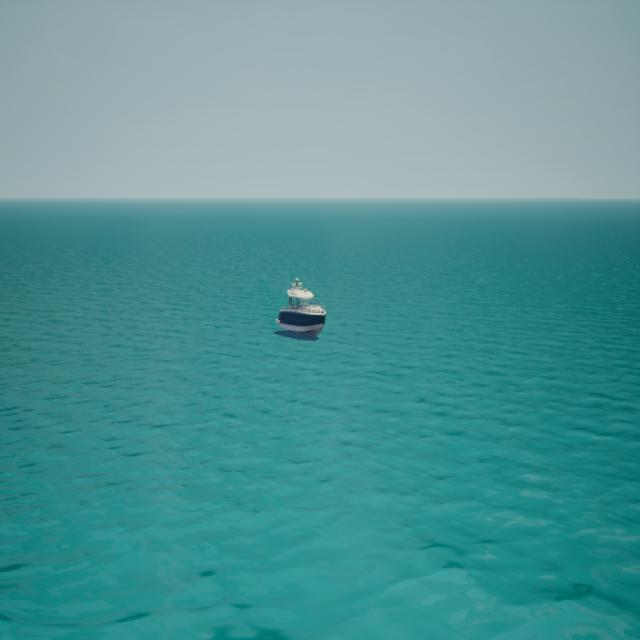ship: (276, 277, 328, 339)
